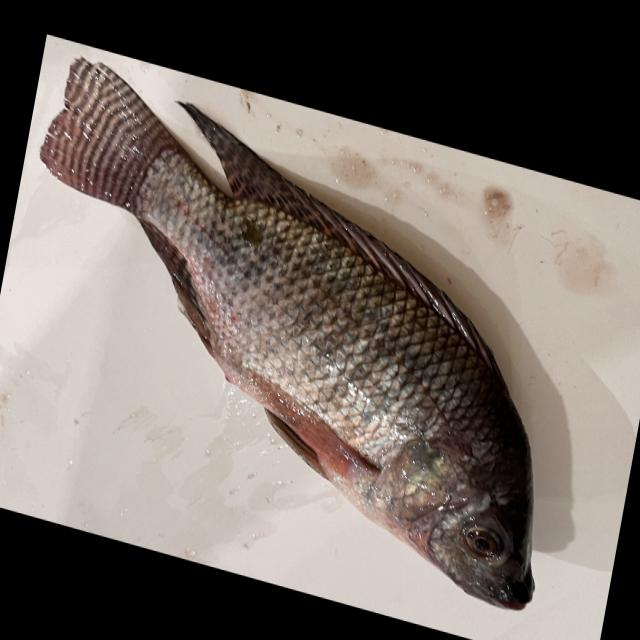Tilapia: (0, 39, 606, 625)
